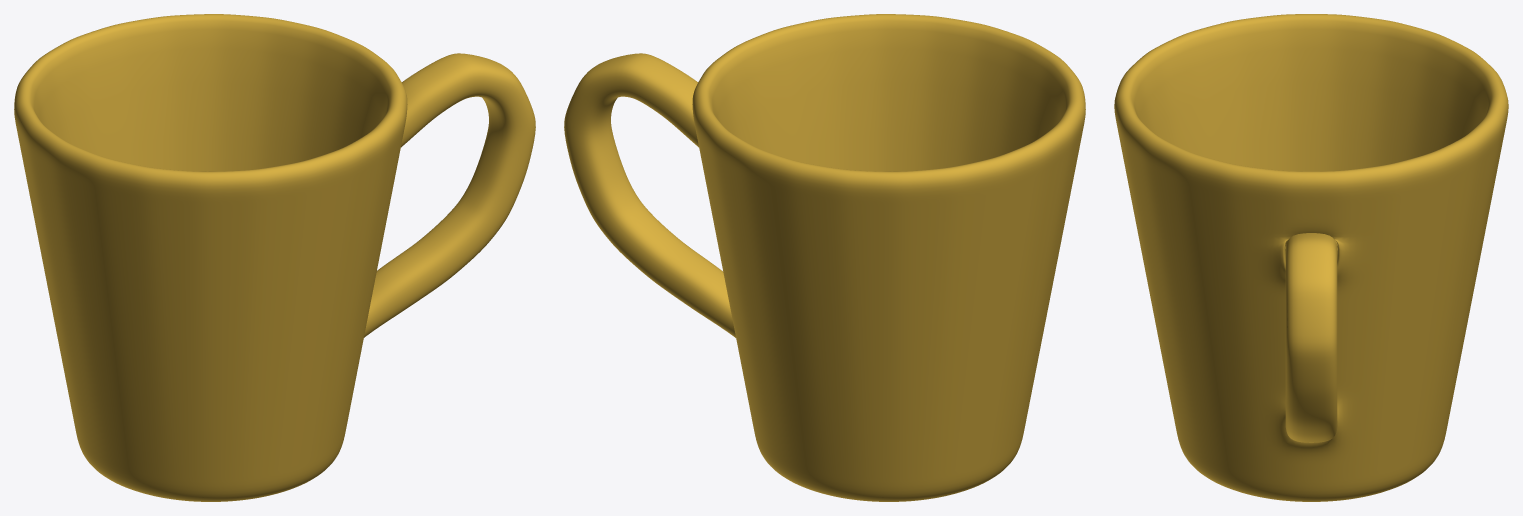
Rendered from cup.fbx.
3 views of the same model, side by side, from view 1: azimuth 30°, elevation 25°; view 2: azimuth 150°, elevation 25°; view 3: azimuth 270°, elevation 25° (orthographic).
Parts seen in each view (by area): view 1: Cylinder; view 2: Cylinder; view 3: Cylinder.
Boxes of the visible parts, x1,y1,x2,y2 form: Cylinder: [14, 14, 535, 501]; Cylinder: [564, 14, 1085, 501]; Cylinder: [1114, 14, 1508, 501].
Size of the model in its own units: 428 by 300 by 299.
